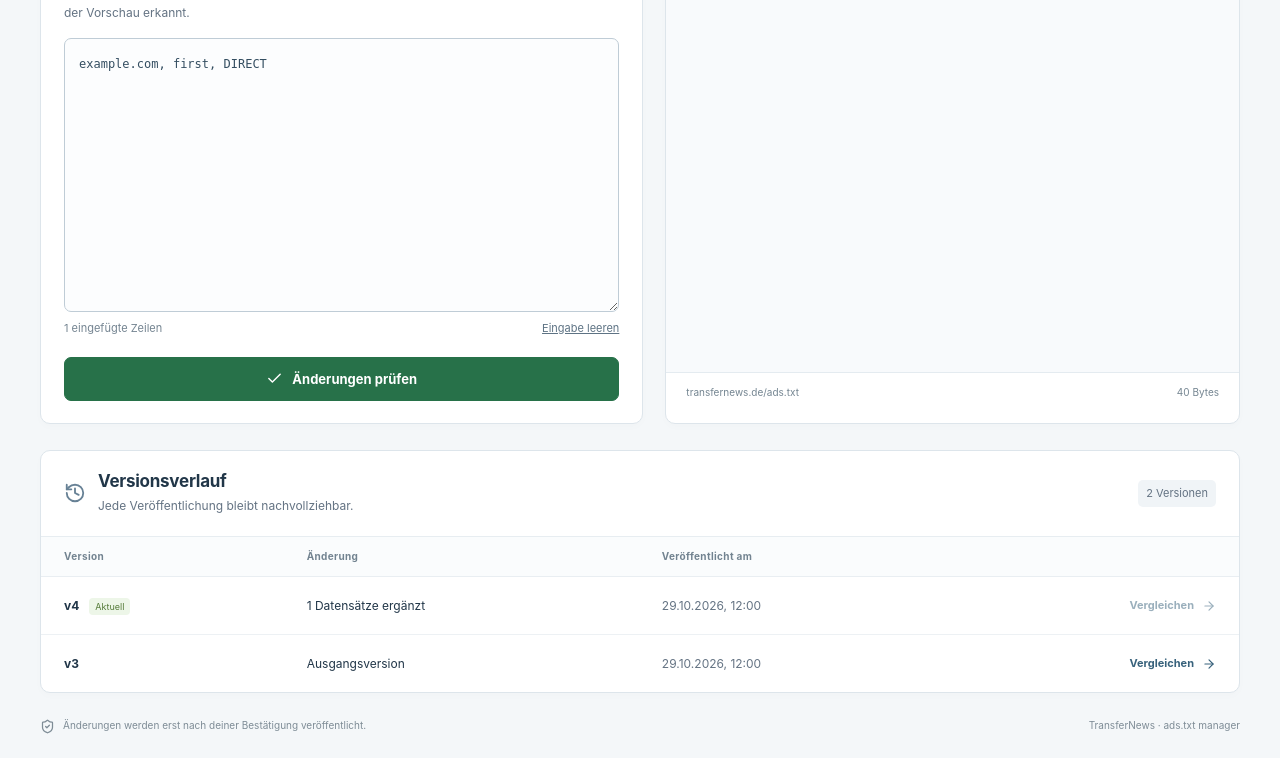
Test: editing a checked paste invalidates the previous approval
(page scrolled)
Click the button "Änderungen prüfen" at (342, 379), box [64,357,619,401]
(page scrolled)
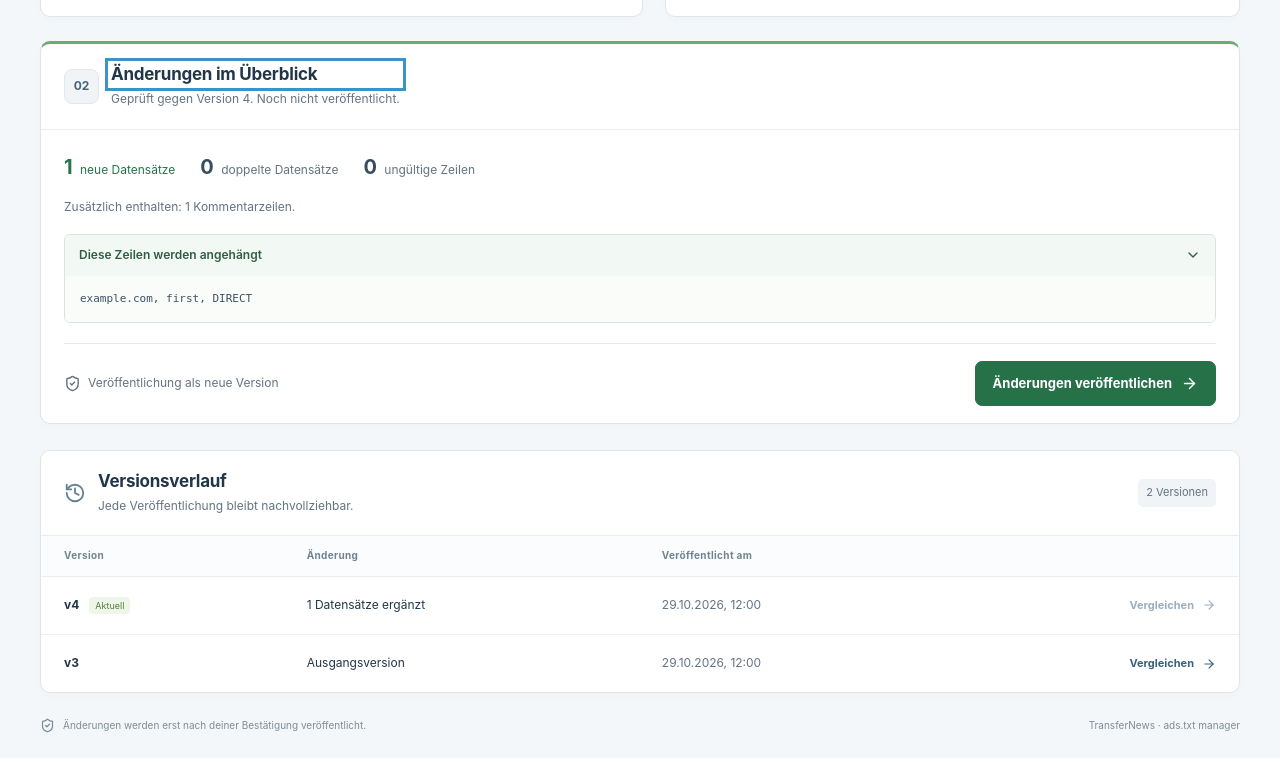
Result: the button "Änderungen veröffentlichen" is shown at [975,362,1216,406]
